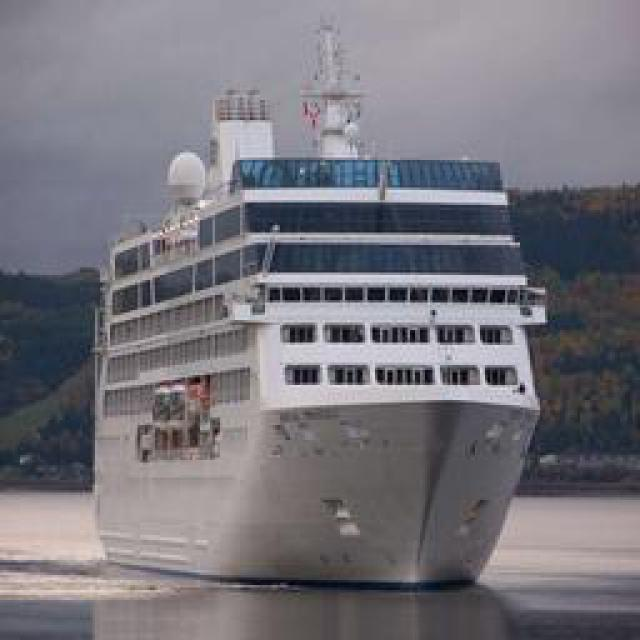Ship: (74, 109, 544, 592)
